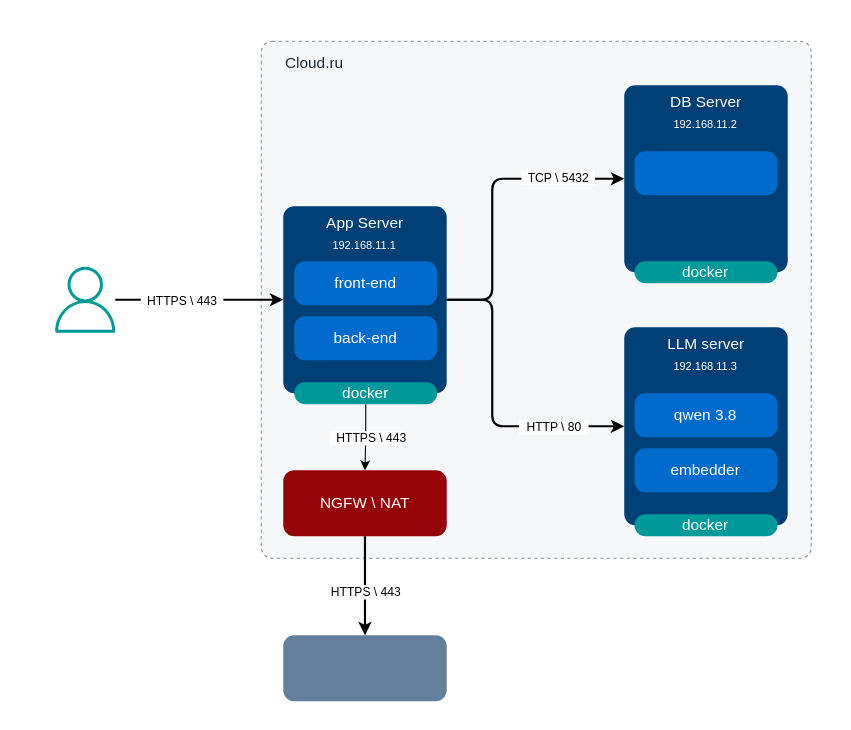
Image size: 851x730. Some labels were removed from this diagram. Each missing label, with the centre of its shape:
"Searchapi" goes at pixel 364 668.
"vector-db" goes at pixel 705 173.
"Пользователь" goes at pixel 85 299.
